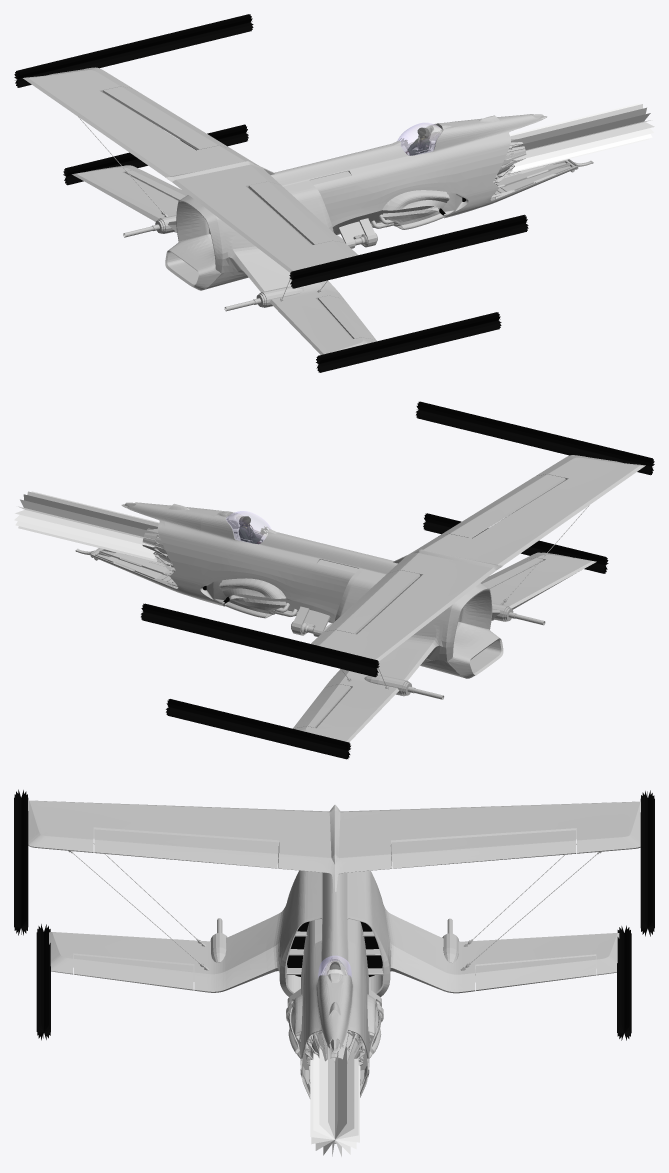
Rendered from New Flying Craft Biplane Airplane.fbx.
3 renders of one model, top to bottom at view 1: azimuth 30°, elevation 25°; view 2: azimuth 150°, elevation 25°; view 3: azimuth 270°, elevation 25°, orthographic. The views are drawn at different scales.
Visible parts, largest first — view 1: Flying Craft Biplane Airplane; view 2: Flying Craft Biplane Airplane; view 3: Flying Craft Biplane Airplane.
Boxes of the visible parts, x1,y1,x2,y2 form: Flying Craft Biplane Airplane: (14, 14, 654, 372); Flying Craft Biplane Airplane: (14, 401, 654, 759); Flying Craft Biplane Airplane: (14, 789, 654, 1156).
Bounding box in the file's own units: 773 × 178 × 770.
